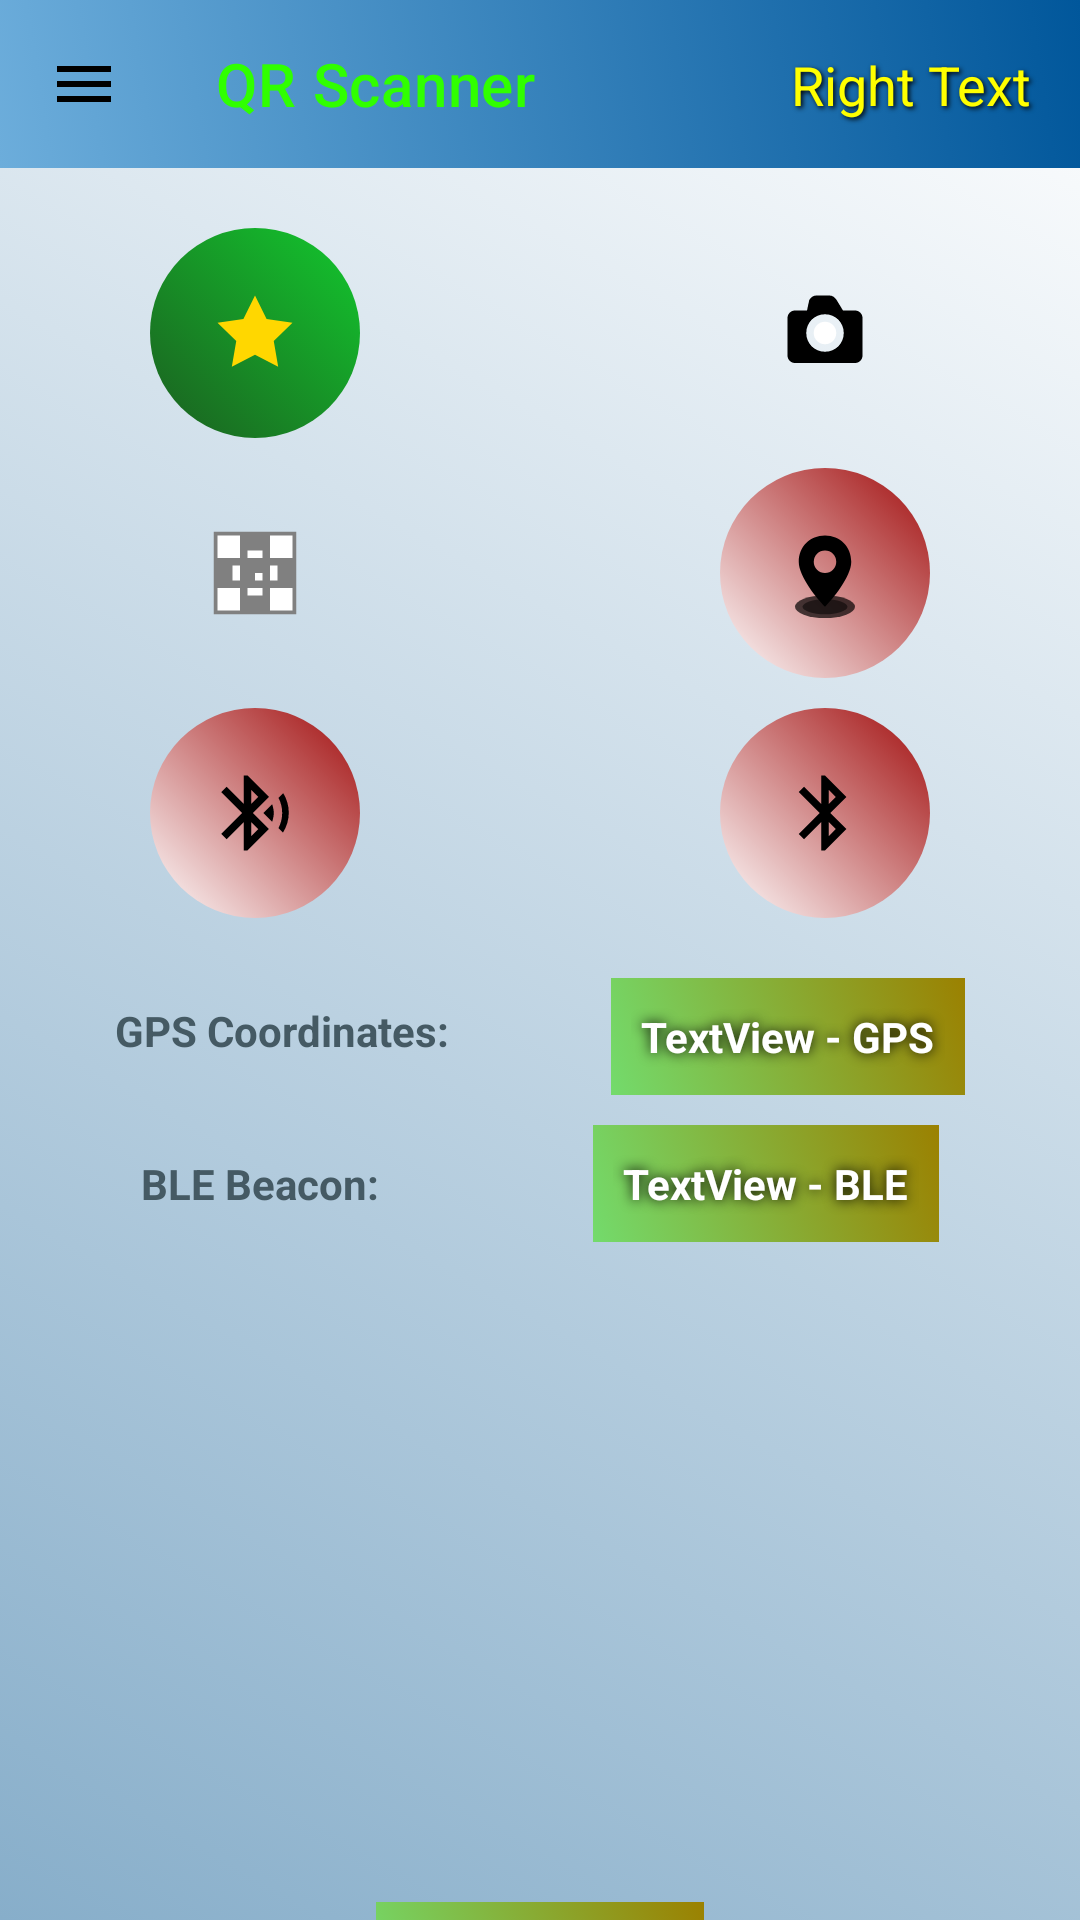

Named icons in this screenshot (1080 × 1920) and their centers, [x,y]:
camera: [825,329]
